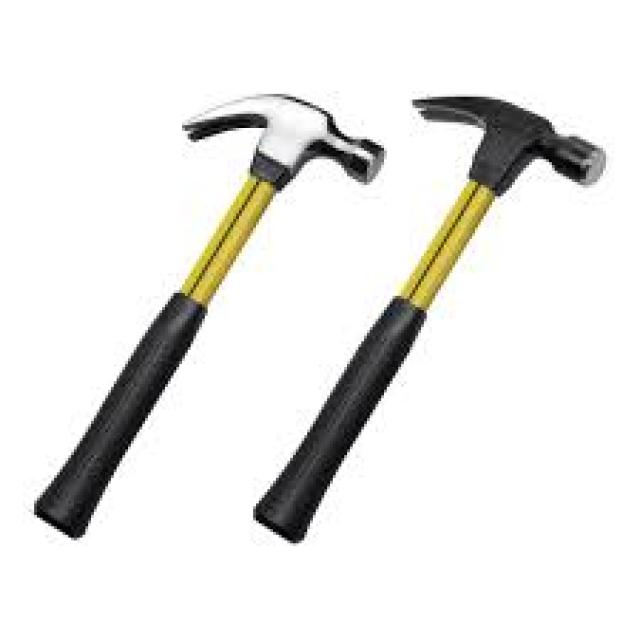hammer: (68, 71, 389, 446), (370, 66, 614, 477)
